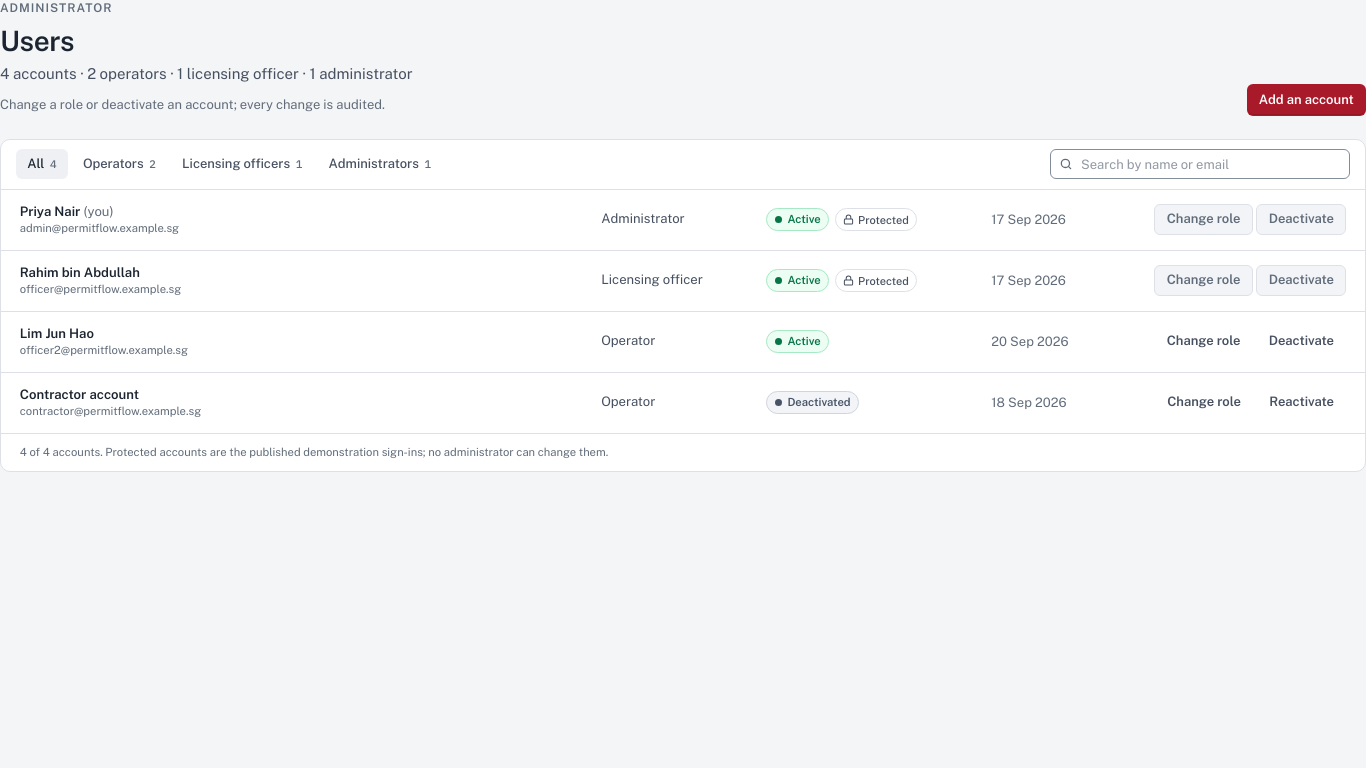
admin users (S-41, US-073) › changes a role through the dialog with the consequence sentence, and shows a 409 as the server says it
Click the button "Change role" in the row of "Lim Jun Hao" at {"x": 1204, "y": 342}, box [1154,326,1253,357]
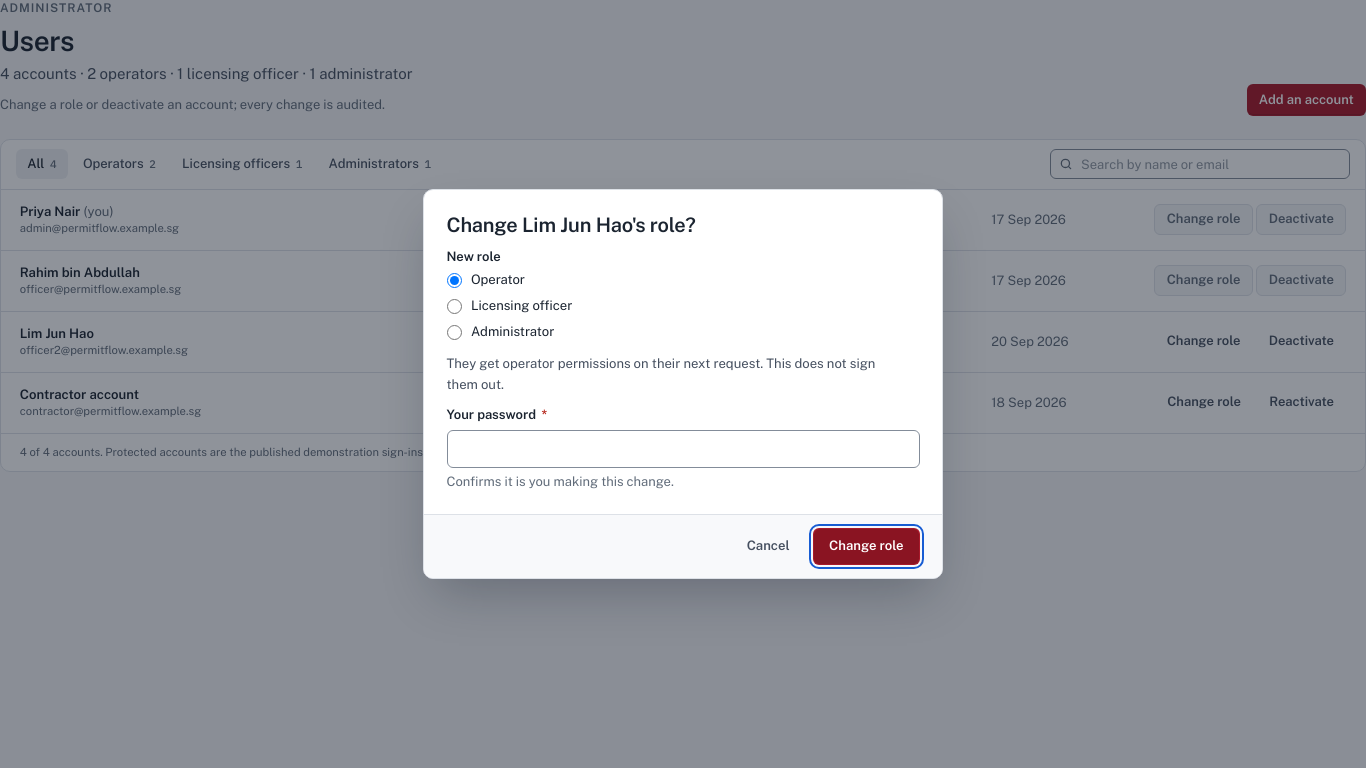
Click the radio button labelled "Licensing officer" at {"x": 454, "y": 306}, box [446,299,462,314]
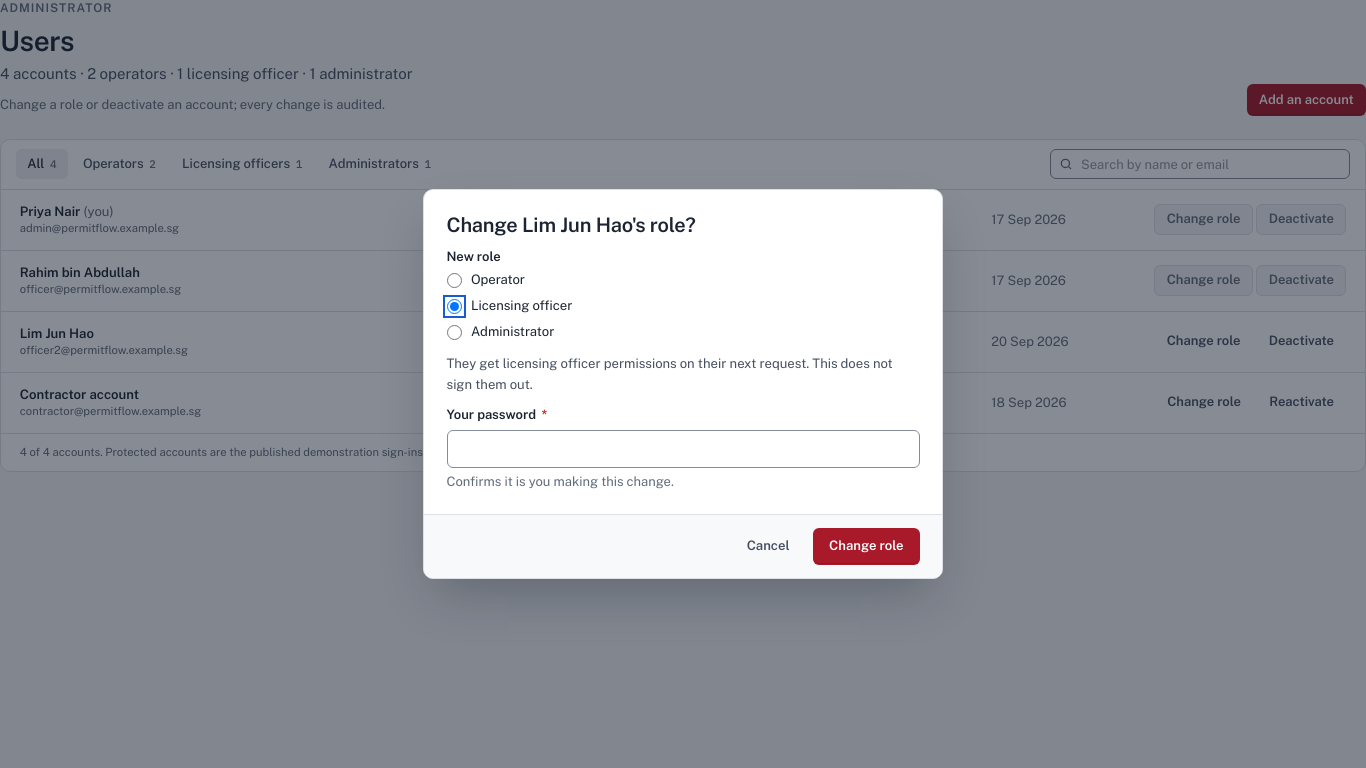
Now the text "They get licensing officer permissions on their next request. This does not sign them out." is shown, box [446,353,920,395]
// The step-up: nothing is sent until the administrator's own password is typed.
Click the button "Change role" at {"x": 866, "y": 547}, box [813,528,920,565]
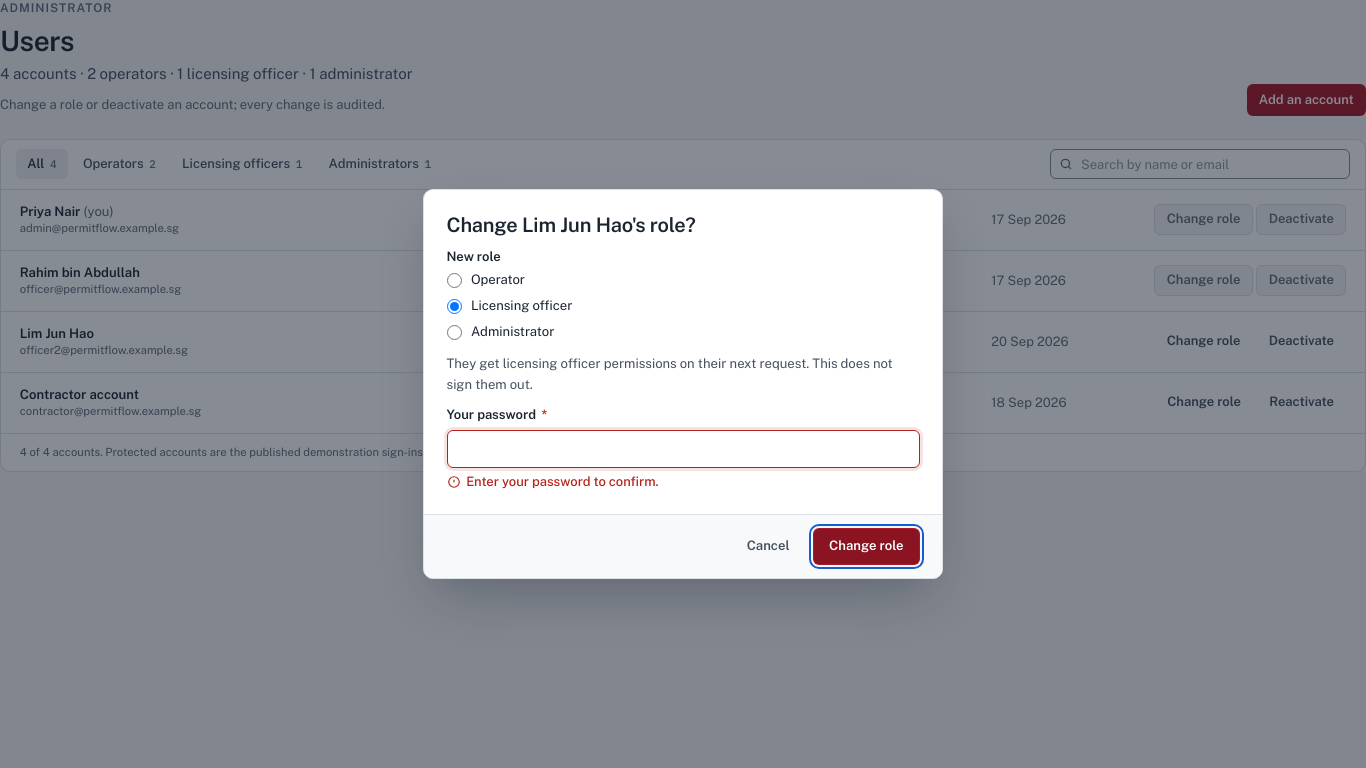
Now the text "Enter your password to confirm." is shown, box [466,473,659,491]
Type "Admin-Own-Pass-1" into the password field labelled "Your password *" at {"x": 683, "y": 449}, box [446,430,920,468]
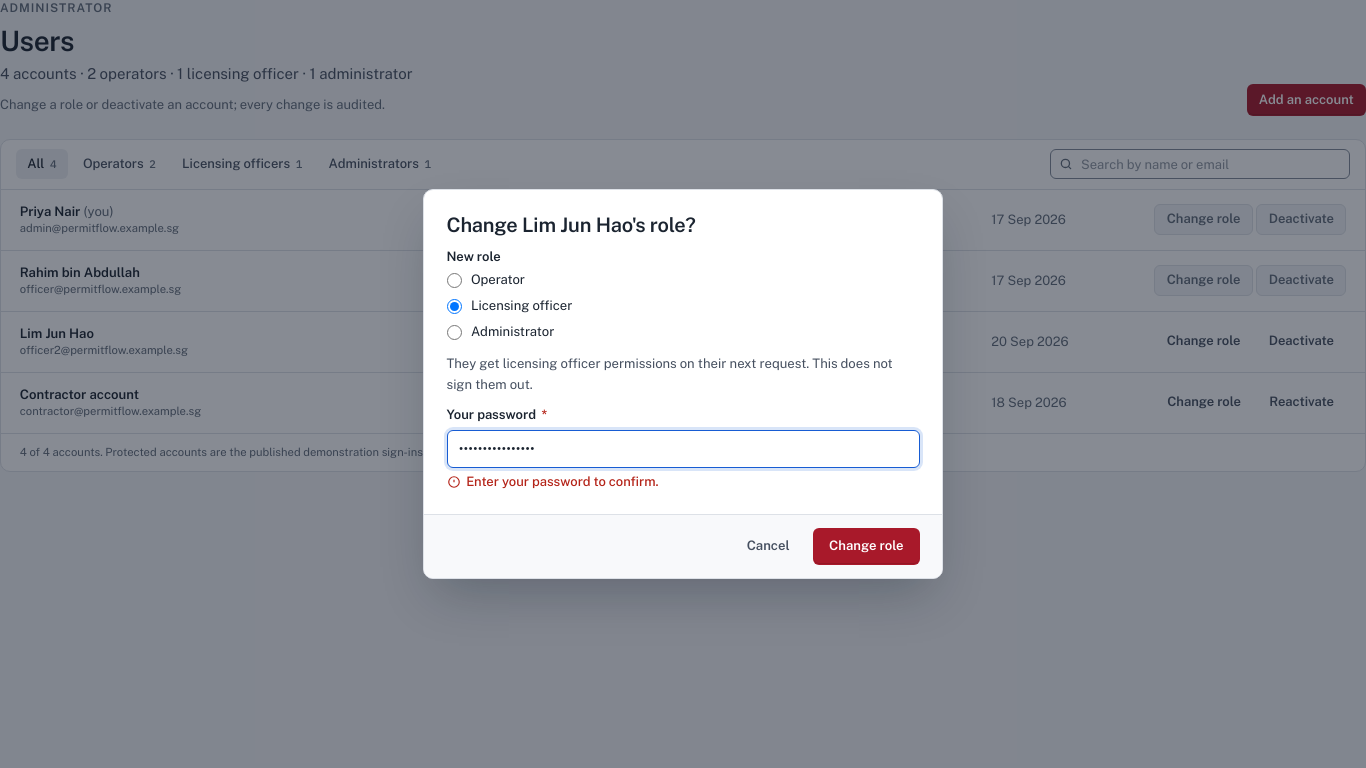
Click the button "Change role" at {"x": 866, "y": 547}, box [813,528,920,565]
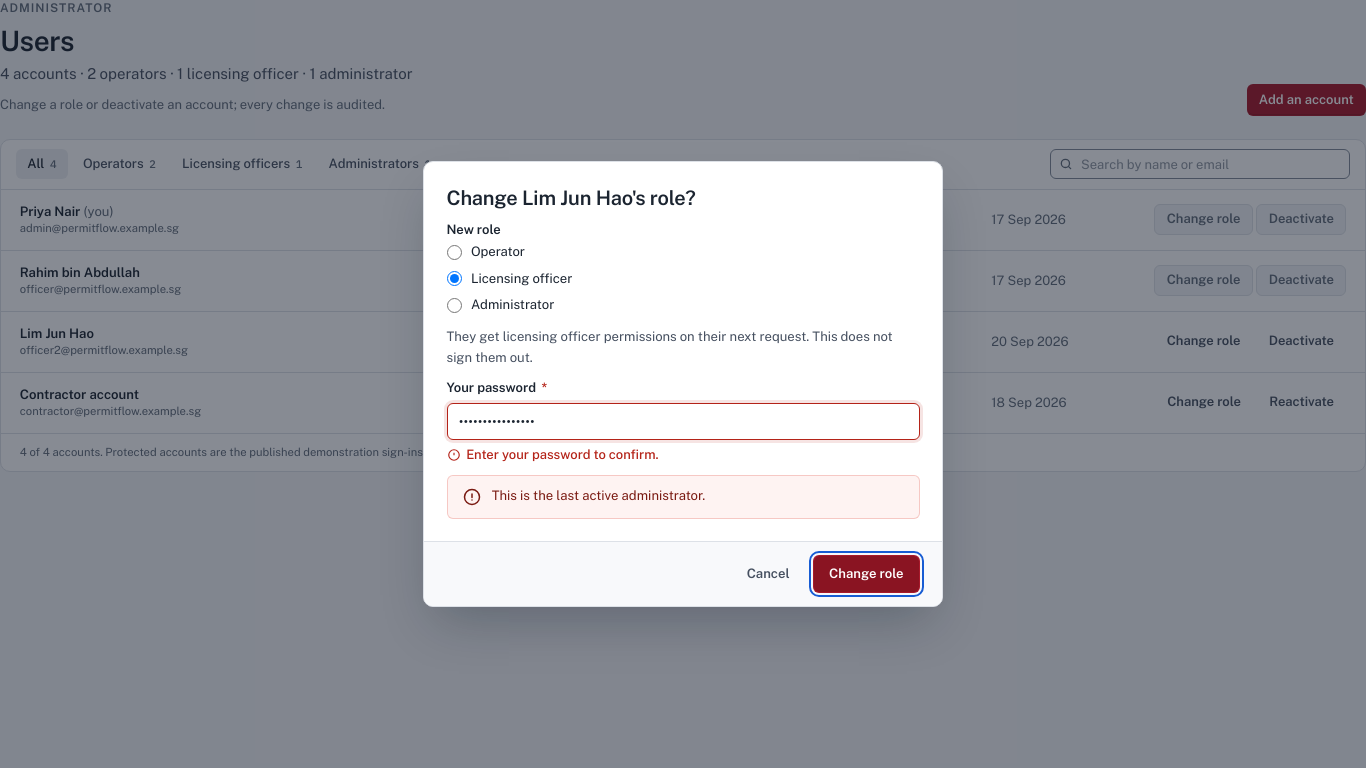
Now the text "This is the last active administrator." is shown, box [492,488,705,503]
Click the button "Change role" at {"x": 866, "y": 574}, box [813,555,920,593]
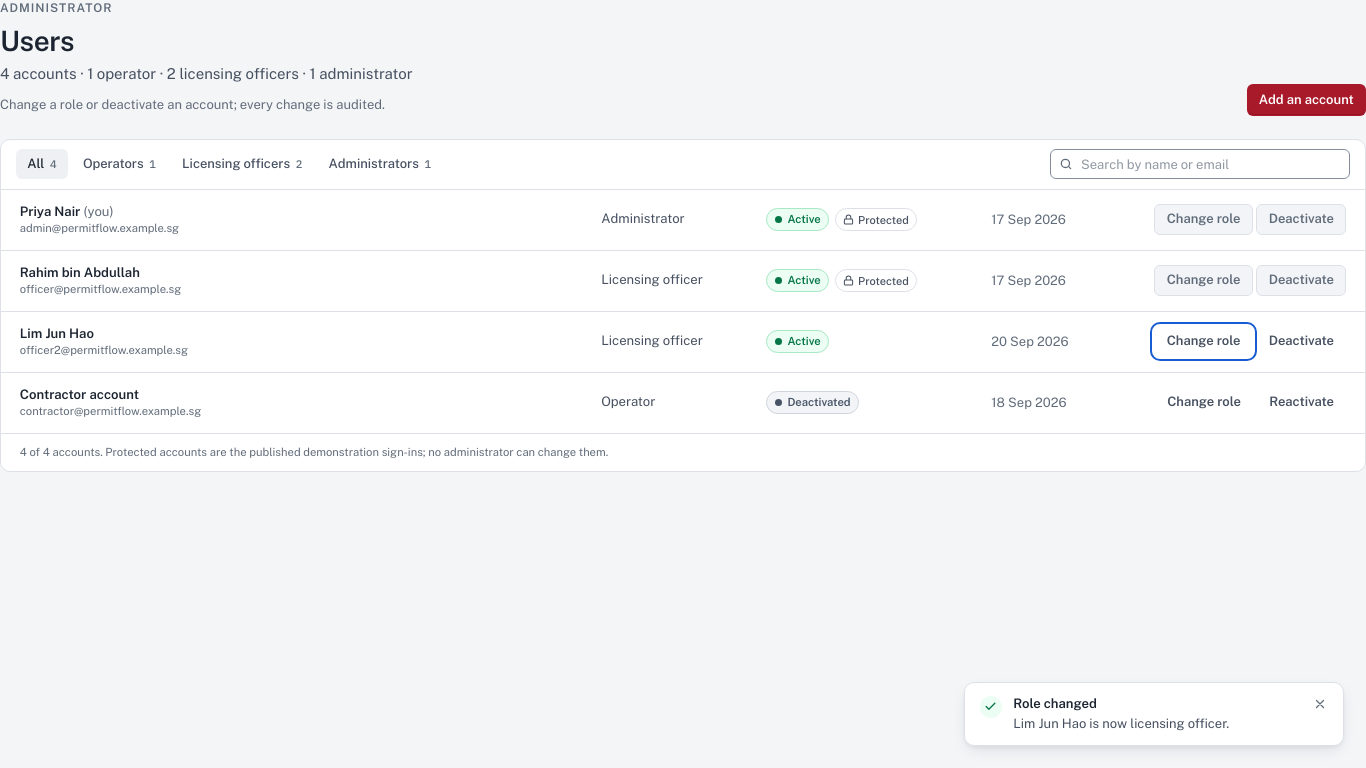
Now the heading "Change Lim Jun Hao's role?" is gone
Now the text "Licensing officer" in the row of "officer2@permitflow.example.sg" is shown, box [601,333,703,348]
